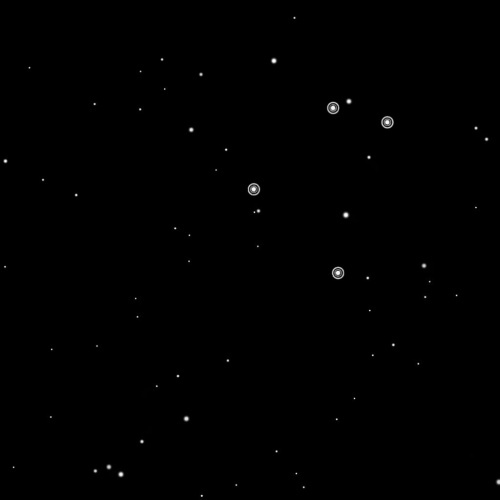coma_berenices: (237, 97, 402, 288)
